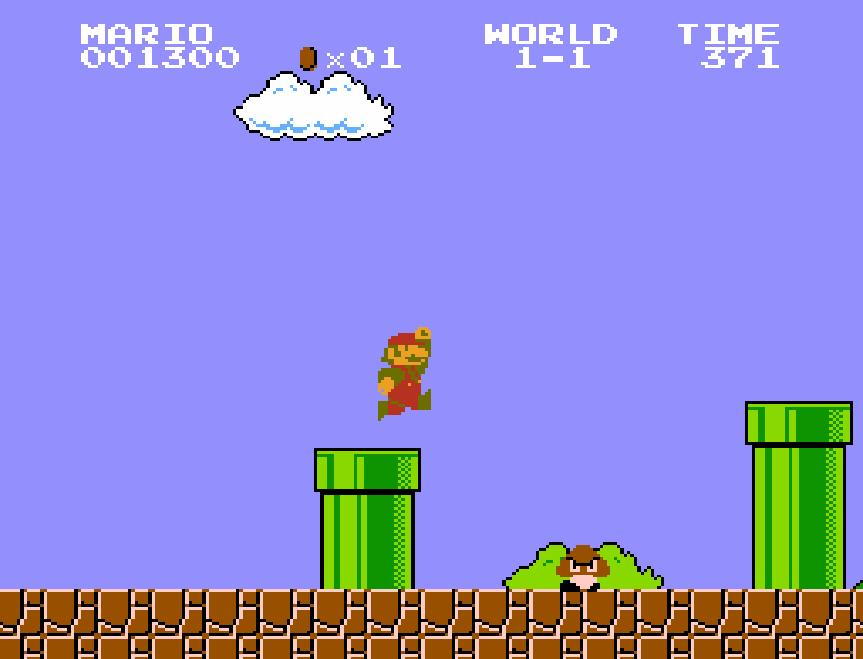big_mario: (376, 325, 434, 423)
